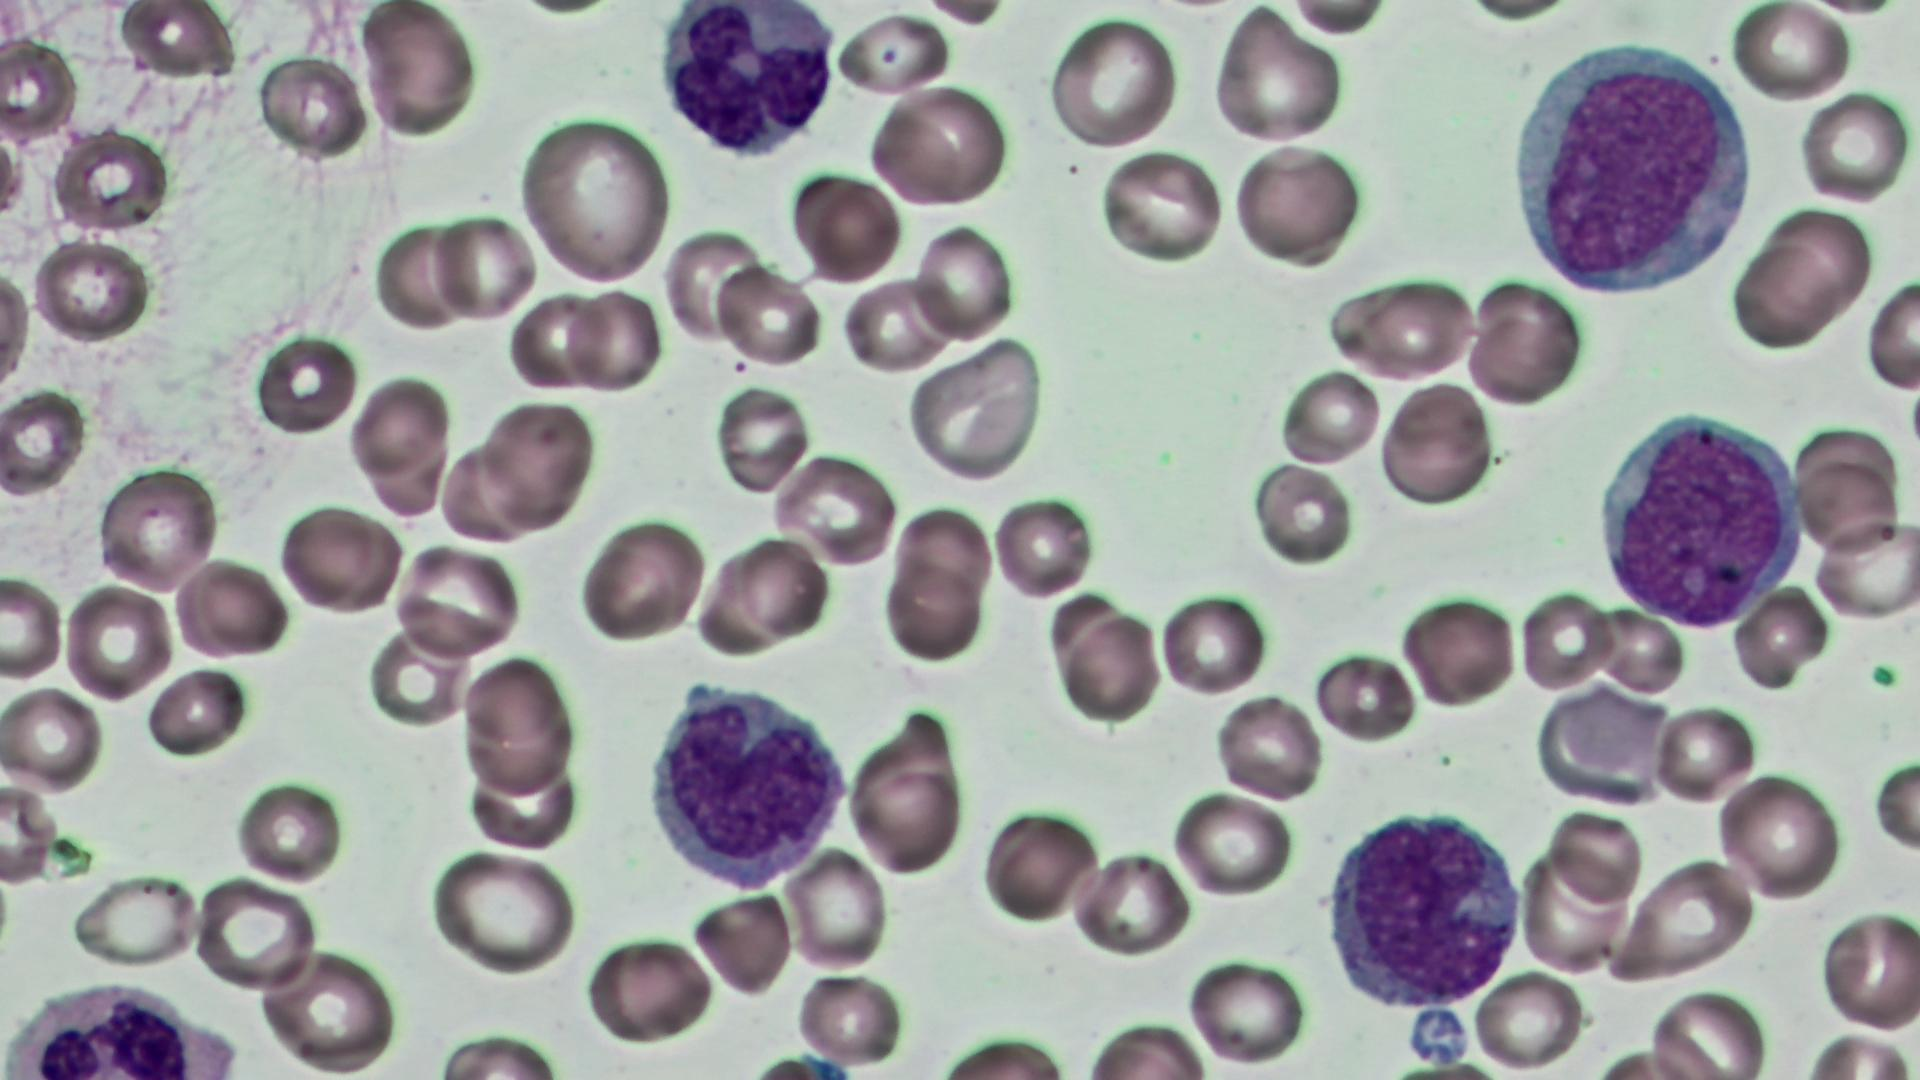Platelets: (1865, 658, 1904, 691)
RBC: (516, 112, 673, 287), (905, 336, 1044, 483), (1042, 12, 1180, 153), (1211, 5, 1346, 145), (430, 847, 575, 977), (865, 83, 1010, 211), (848, 723, 964, 880), (1611, 857, 1755, 982), (256, 945, 396, 1073), (1230, 140, 1365, 269), (359, 0, 480, 140), (1716, 769, 1842, 902), (1324, 272, 1474, 382), (578, 516, 704, 644), (459, 651, 572, 791), (96, 464, 219, 593), (770, 450, 901, 570), (477, 398, 597, 529), (276, 498, 406, 618), (580, 928, 712, 1047), (1095, 146, 1224, 266), (392, 542, 522, 661), (191, 874, 320, 992), (1466, 278, 1584, 407), (1760, 203, 1875, 332), (1375, 380, 1491, 506), (1796, 84, 1912, 208), (351, 373, 451, 516), (782, 843, 890, 975), (1184, 953, 1309, 1067), (1398, 589, 1515, 709), (980, 806, 1093, 930), (705, 534, 833, 644), (1727, 235, 1842, 353), (1073, 845, 1192, 959), (63, 582, 173, 704), (32, 236, 152, 344), (1171, 789, 1291, 897), (66, 872, 200, 968), (51, 127, 167, 237), (789, 167, 899, 284), (663, 224, 766, 348), (913, 222, 1015, 344), (1727, 1, 1847, 105), (1472, 965, 1586, 1073), (1820, 906, 1917, 1033), (1247, 459, 1357, 571), (713, 261, 824, 371), (1213, 691, 1323, 802), (1058, 611, 1162, 727), (0, 680, 104, 796), (233, 777, 344, 885), (431, 208, 538, 320), (175, 555, 289, 661), (1812, 514, 1920, 622), (257, 53, 367, 160), (1156, 589, 1269, 694), (691, 884, 793, 998), (372, 219, 472, 335), (1647, 984, 1770, 1077), (990, 493, 1095, 603), (712, 382, 811, 497), (882, 553, 984, 663), (837, 274, 949, 375), (504, 287, 607, 394), (794, 969, 905, 1068), (566, 285, 663, 396), (1274, 367, 1379, 468), (833, 11, 953, 99), (255, 334, 355, 439), (1516, 587, 1611, 696), (1731, 583, 1826, 691), (1545, 807, 1646, 909), (1654, 702, 1755, 802), (1312, 647, 1418, 744), (146, 665, 251, 756), (0, 386, 84, 498), (117, 0, 231, 80), (1593, 603, 1687, 694), (0, 36, 78, 144), (0, 572, 66, 680), (1863, 272, 1920, 397), (0, 775, 58, 886), (433, 1030, 564, 1077), (1797, 1029, 1913, 1077), (1870, 754, 1917, 858)
WBC: (1498, 32, 1760, 301), (1590, 405, 1807, 632), (642, 679, 851, 895), (1317, 802, 1526, 1014), (655, 0, 845, 160), (0, 977, 244, 1076)
